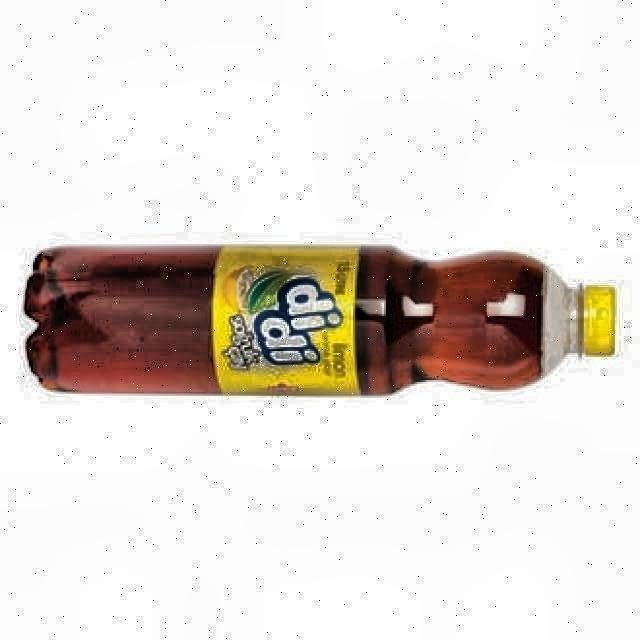plastic: (23, 246, 616, 394)
